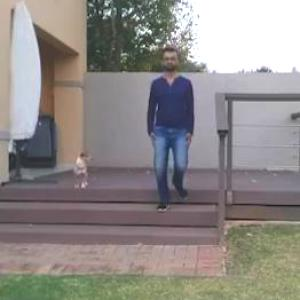follow: (156, 47, 198, 218)
